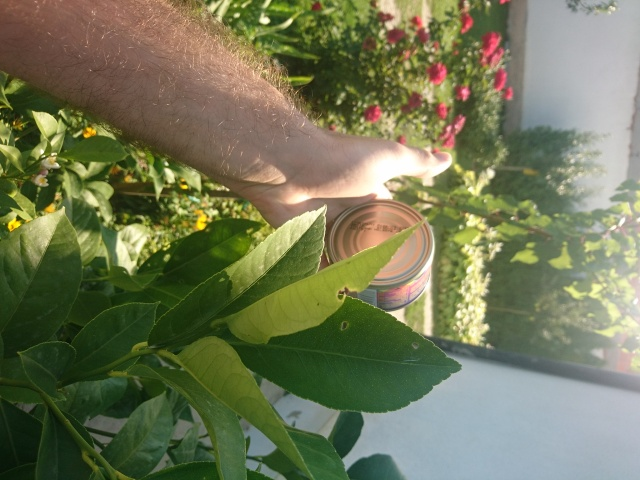Giana Tuna Salad Mexico 185g: (323, 197, 438, 314)
